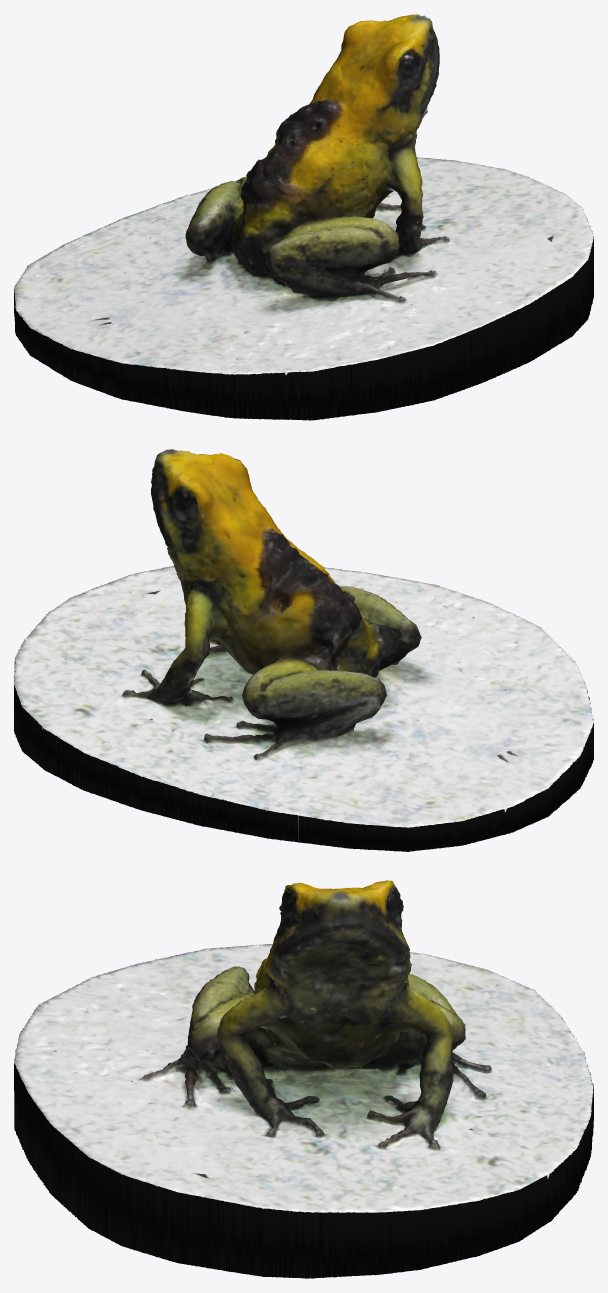
File: BlackLeggedPoison.fbx
3 views of the same model, one above another, from view 1: azimuth 30°, elevation 25°; view 2: azimuth 150°, elevation 25°; view 3: azimuth 270°, elevation 25° (orthographic). The views are drawn at different scales.
Parts seen in each view (by area): view 1: Phyllobates Done reduced; view 2: Phyllobates Done reduced; view 3: Phyllobates Done reduced.
Boxes of the visible parts, <box> form: Phyllobates Done reduced: <box>14,14,593,420</box>; Phyllobates Done reduced: <box>14,449,593,851</box>; Phyllobates Done reduced: <box>14,880,593,1278</box>.
Size of the model in its own units: 1241 by 590 by 1012.
1 material, 1 textured.
